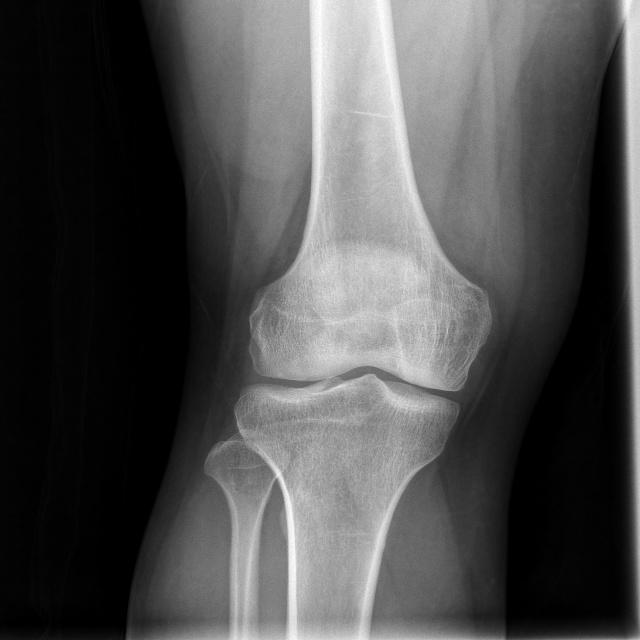Knee: (233, 282, 495, 470)
